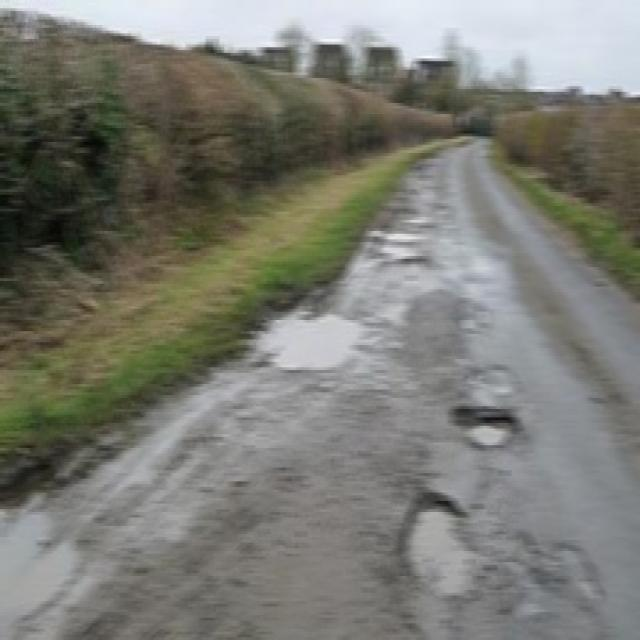Pothole: (263, 300, 386, 393), (402, 482, 480, 601), (444, 391, 538, 476), (368, 205, 423, 283)
